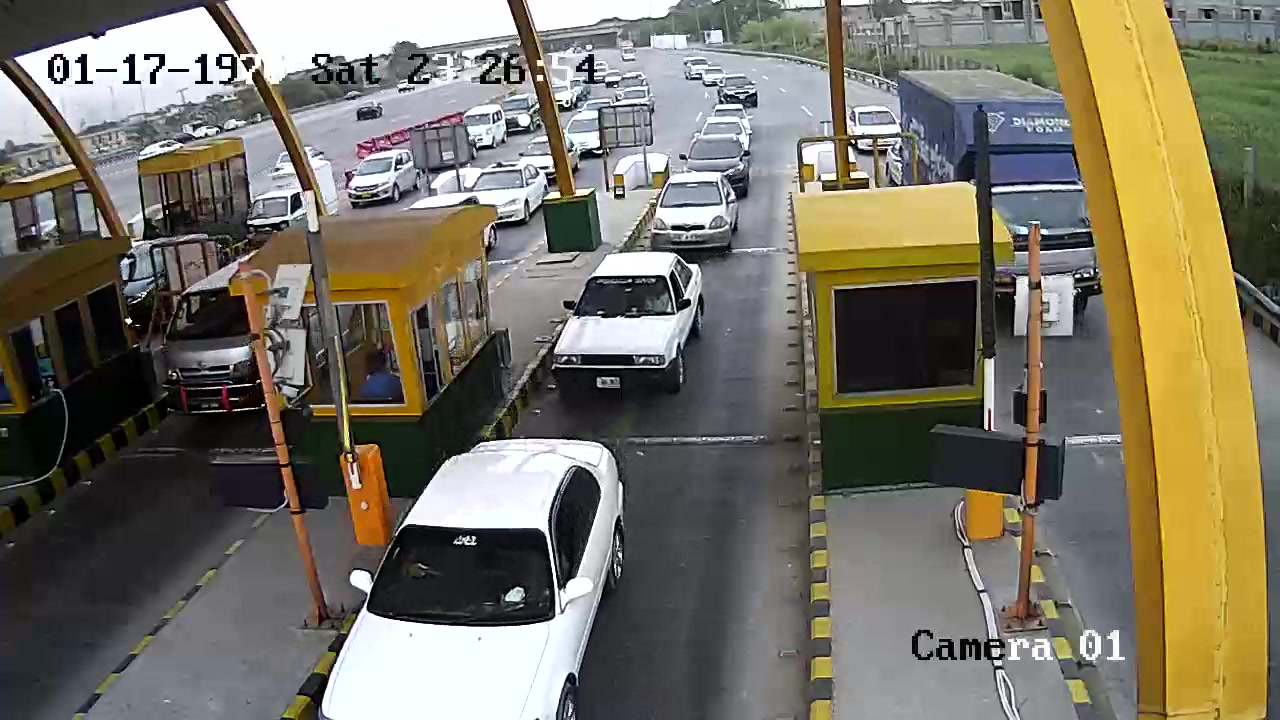F1: (310, 437, 644, 718), (543, 250, 711, 409)
